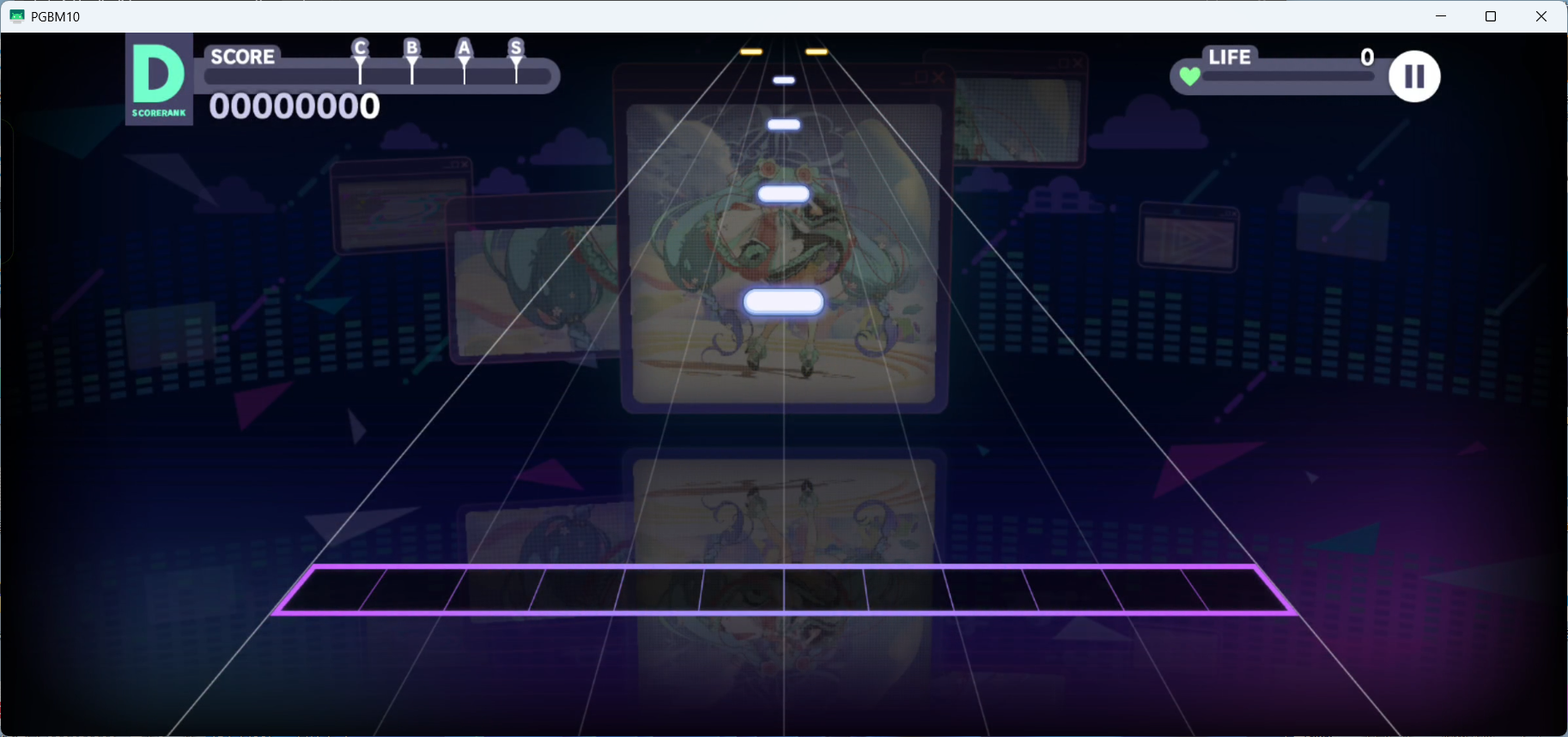tap: (744, 289, 824, 317), (758, 186, 809, 202), (768, 118, 799, 130), (772, 76, 795, 85), (738, 47, 763, 55), (805, 48, 828, 55)
